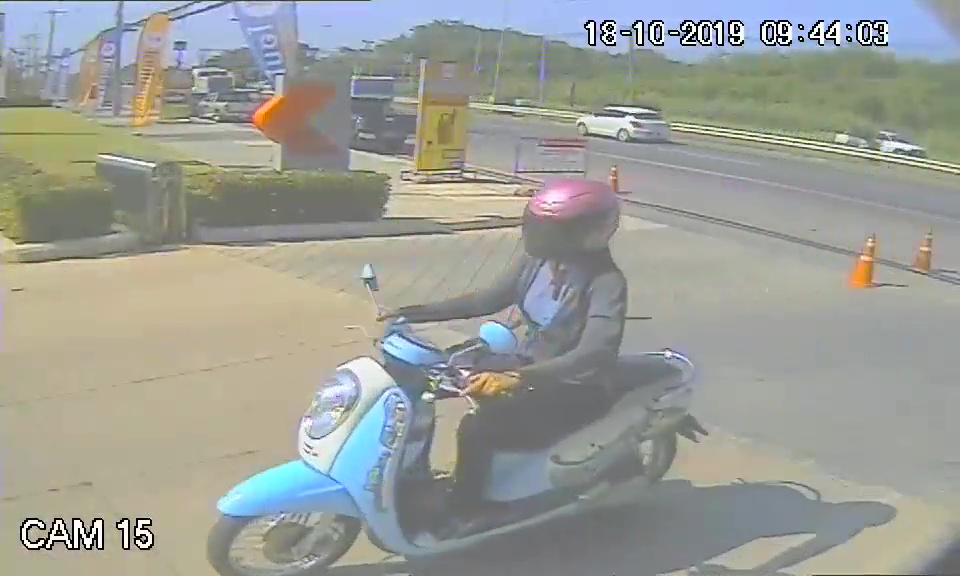motorcycle: (202, 313, 714, 576)
